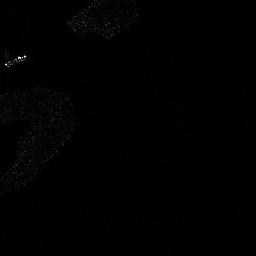ship: (4, 53, 28, 67)
